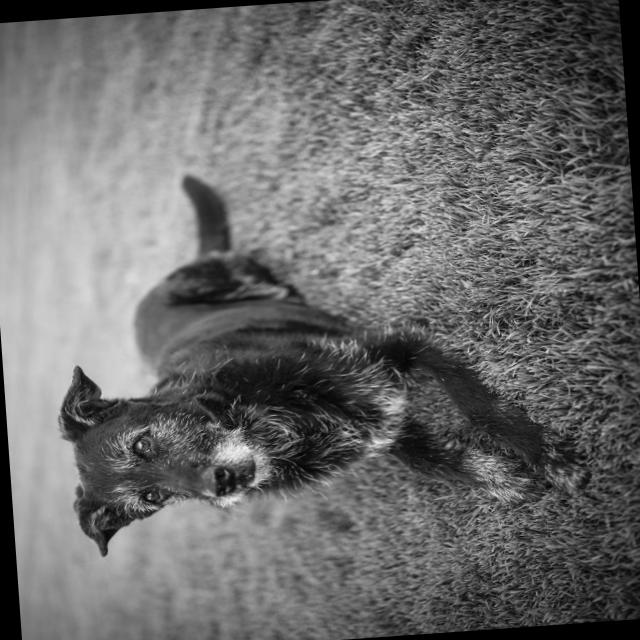laying down: (36, 143, 596, 567)
